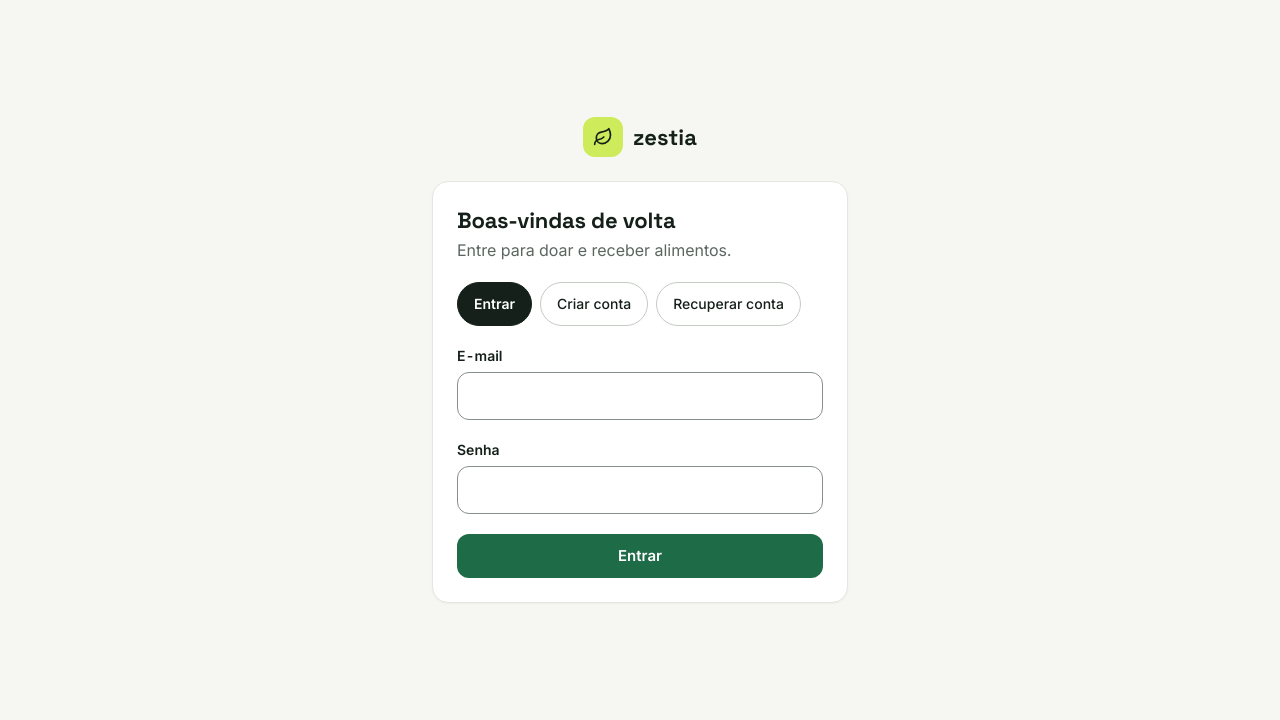
Test: usuário sem organização pode restaurar a arquivada sem precisar criar outra
expect the heading "Boas-vindas de volta" is shown: met, box x1=457 y1=206 x2=676 y2=234
Type "member@example.test" into the field labelled "E-mail" at (640,396), box x1=457 y1=372 x2=823 y2=420
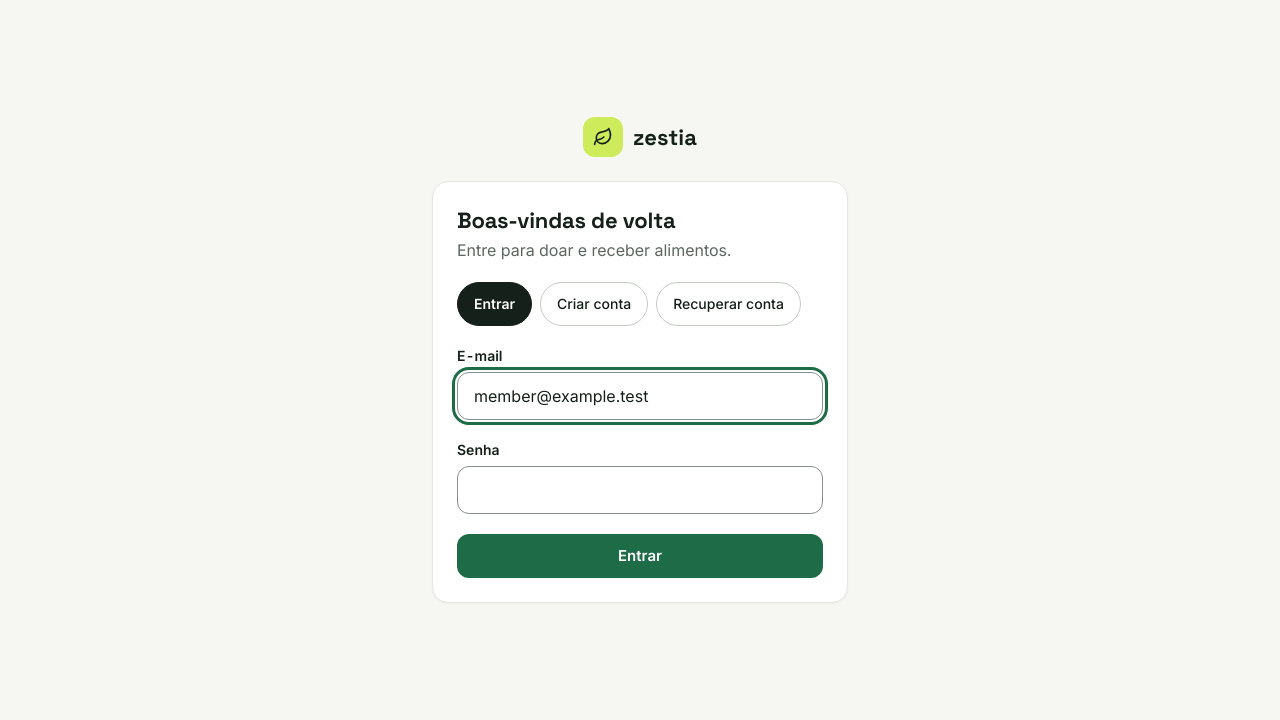
Type "test-password-at-least-12" into the password field labelled "Senha" at (640,490), box x1=457 y1=466 x2=823 y2=514
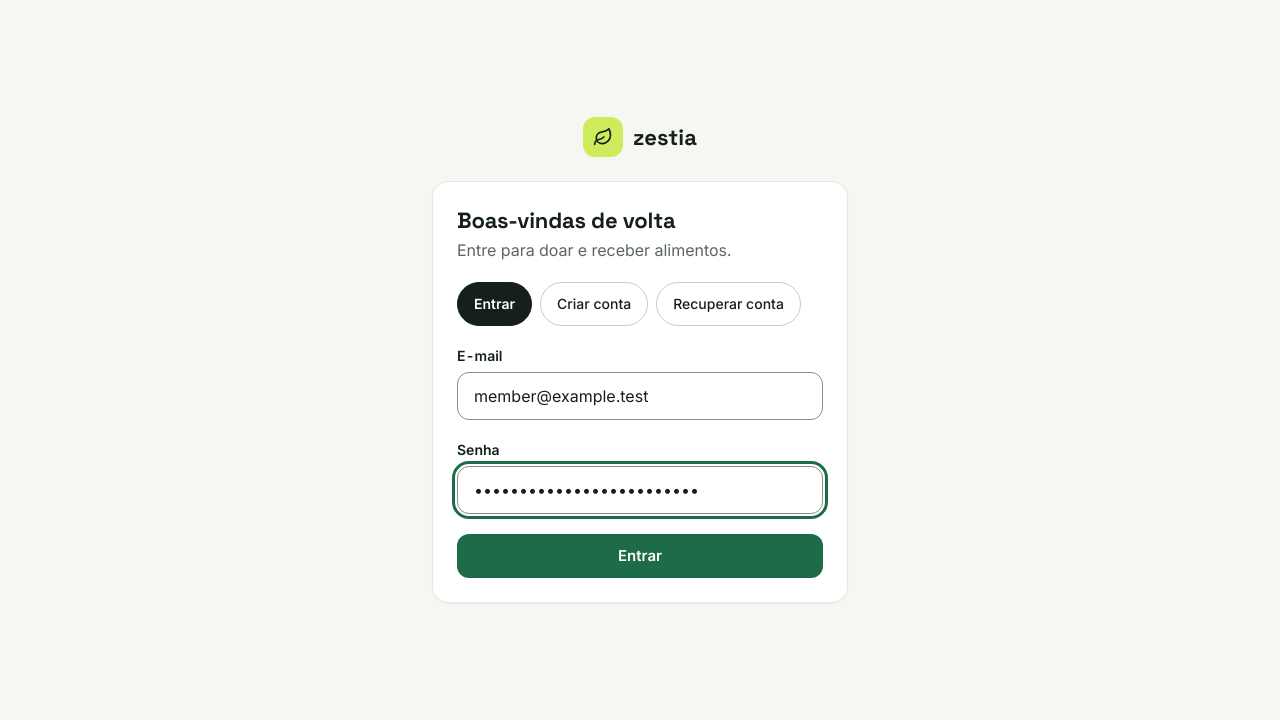
Click the submit button at (640,556), box x1=457 y1=534 x2=823 y2=578
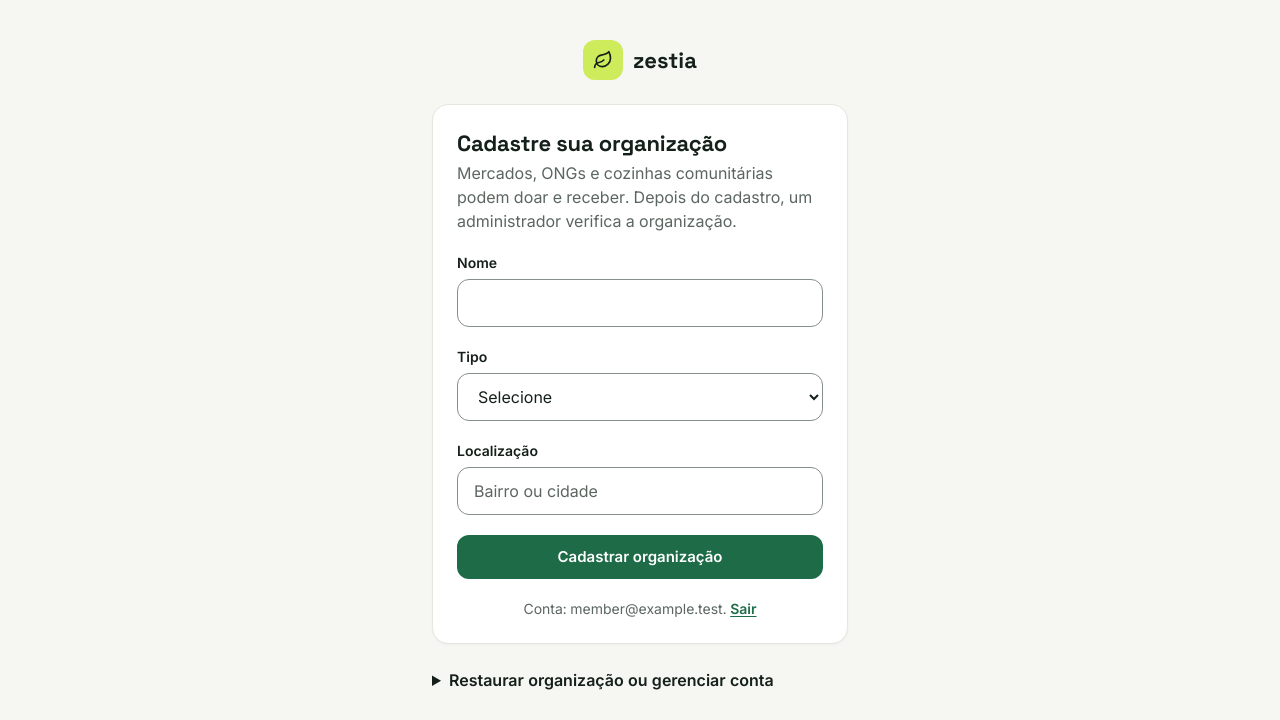
Click the heading "Restaurar organização ou gerenciar conta" at (611,680), box x1=449 y1=670 x2=774 y2=690
(page scrolled)
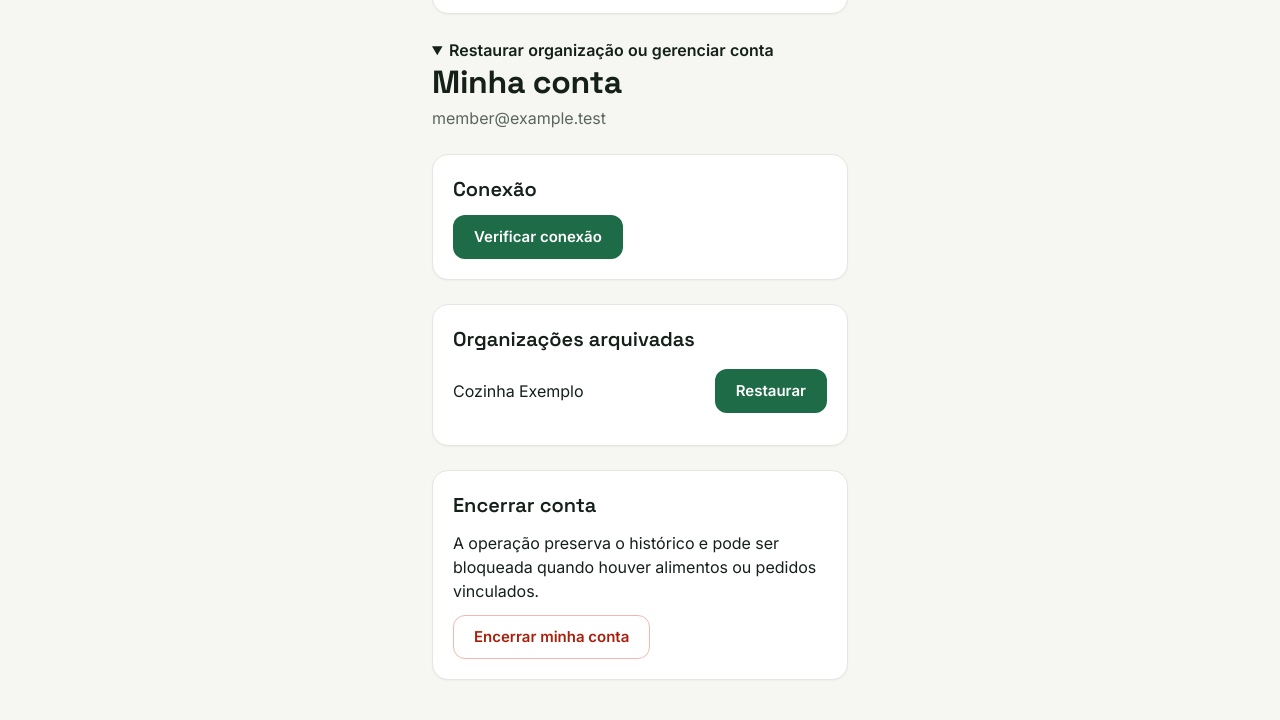
Click the button "Restaurar" at (771,391), box x1=715 y1=369 x2=827 y2=413
(page scrolled)
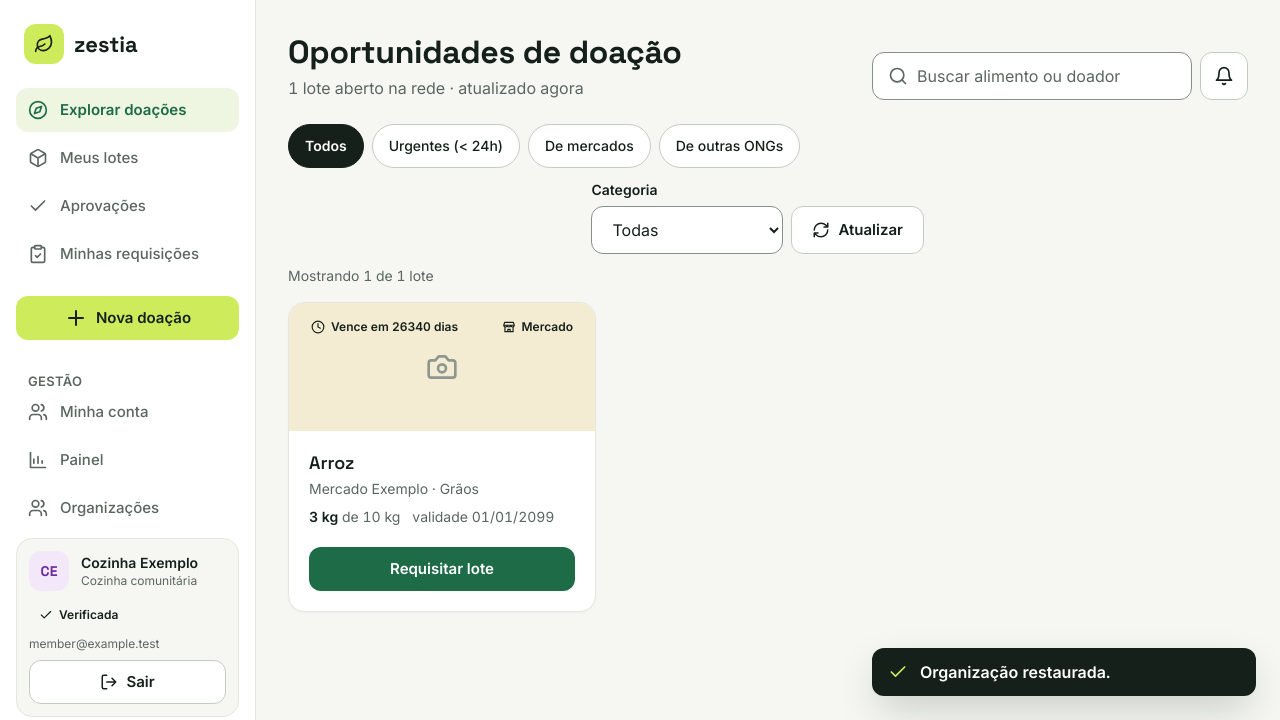
expect the heading "Oportunidades de doação" is shown: met, box x1=288 y1=32 x2=682 y2=72
